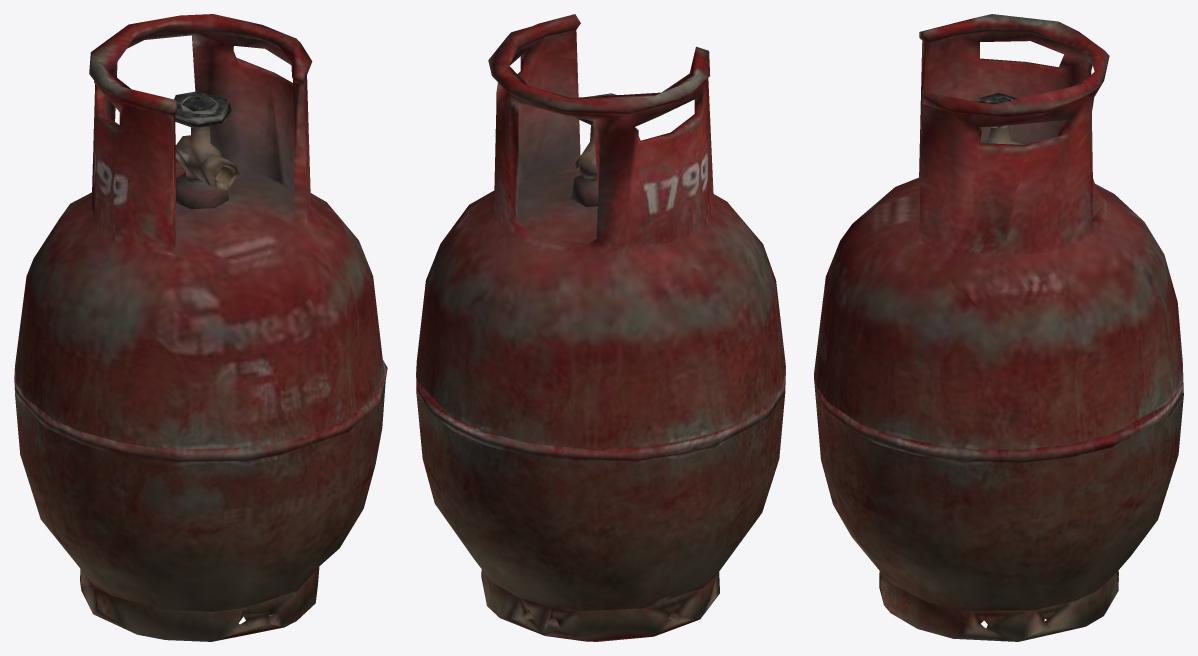
Rendered from small_lpg_tank.glb.
The picture shows the model from 3 angles, left to right: view 1: azimuth 30°, elevation 25°; view 2: azimuth 150°, elevation 25°; view 3: azimuth 270°, elevation 25°; orthographic projection.
Parts seen in each view (by area): view 1: small_lpg_tank; view 2: small_lpg_tank; view 3: small_lpg_tank.
Part boxes in pixels (<box>): small_lpg_tank: <box>14,14,387,641</box>; small_lpg_tank: <box>416,14,785,641</box>; small_lpg_tank: <box>814,14,1183,641</box>.
Size of the model in its own units: 0.4051 by 0.642 by 0.4024.
Materials: 1 (1 with a texture image).
